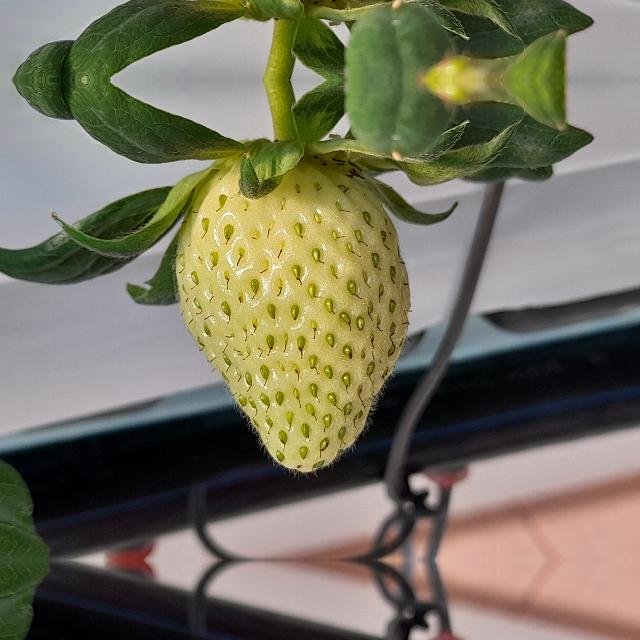Health_25: (175, 154, 411, 474)
